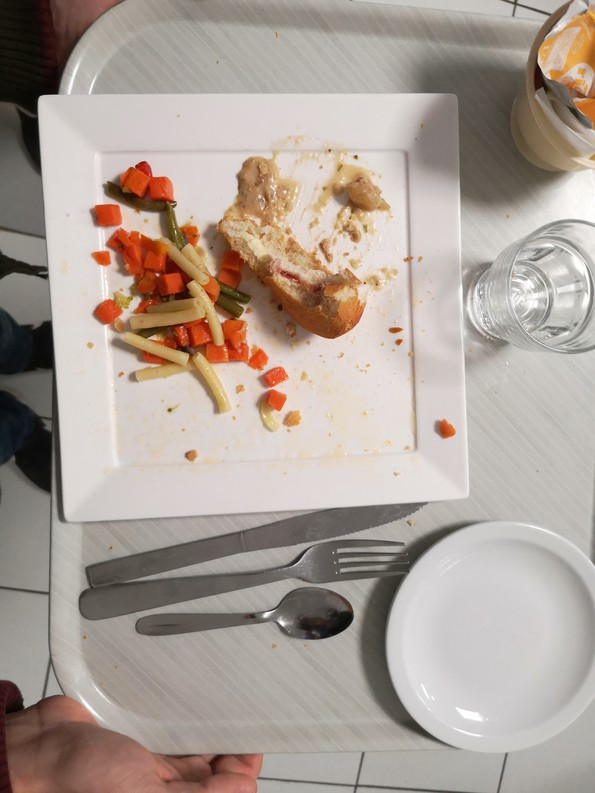cup: (473, 189, 595, 364)
cutlery: (75, 504, 442, 681)
orga: (102, 171, 289, 425), (227, 208, 367, 321)
trash: (512, 1, 595, 185)
